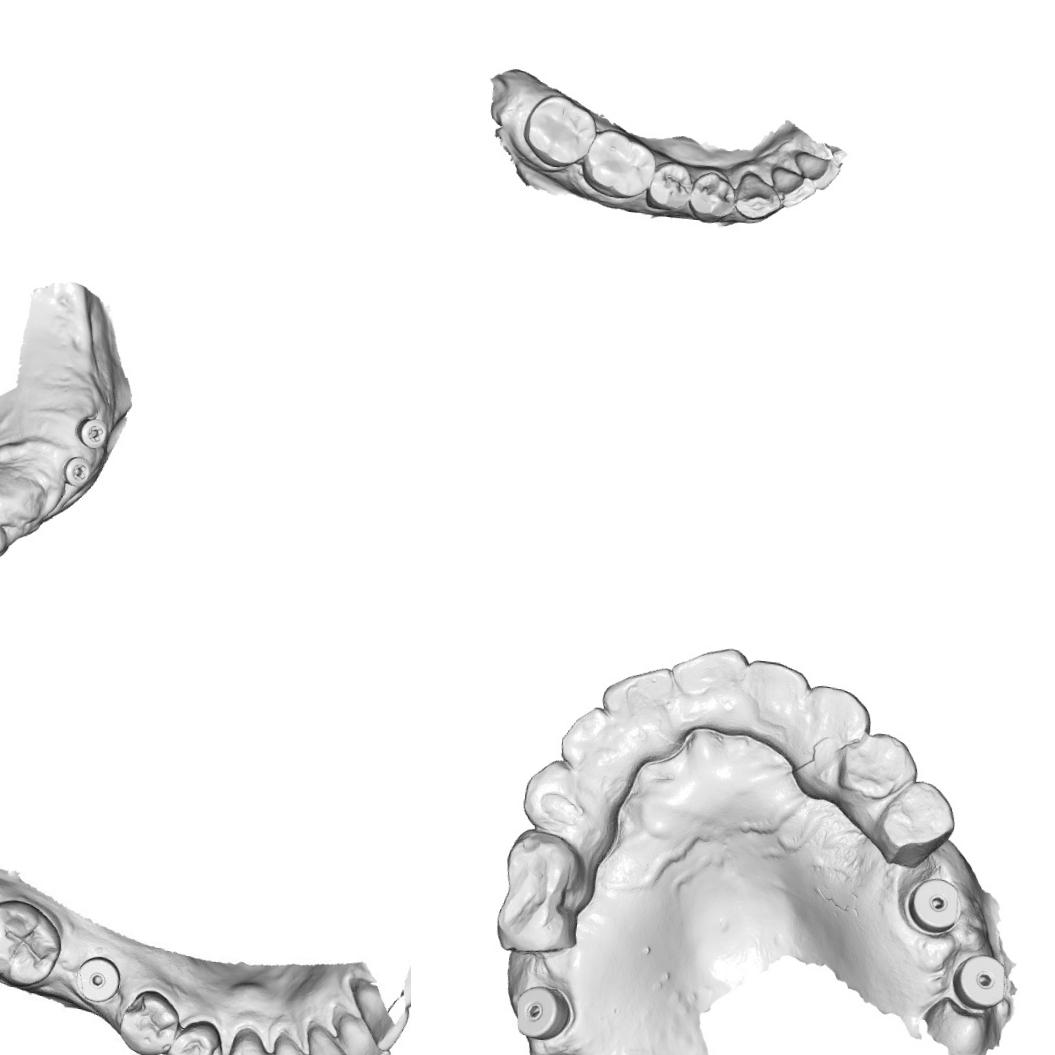canine: (516, 755, 592, 842), (800, 682, 876, 743), (730, 168, 786, 224), (218, 1022, 278, 1055)
implant: (902, 873, 967, 939), (950, 948, 1014, 1011), (511, 982, 574, 1044), (69, 946, 127, 1013)
implant_plus: (72, 413, 111, 452), (60, 454, 95, 492)
incisor: (666, 641, 751, 708), (599, 659, 678, 729), (554, 704, 623, 780), (738, 656, 813, 716), (331, 1010, 393, 1055), (766, 164, 819, 212), (789, 148, 843, 194), (301, 1020, 356, 1055), (270, 1034, 319, 1055)
molar: (518, 88, 600, 174), (0, 893, 69, 993), (577, 126, 661, 203)
premolar: (498, 824, 590, 905), (876, 775, 962, 858), (486, 887, 582, 960), (834, 726, 918, 806), (120, 989, 183, 1054), (686, 168, 738, 227), (644, 156, 696, 214), (170, 1025, 220, 1055)
